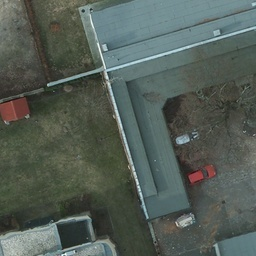car: (170, 127, 201, 146), (186, 164, 217, 182)
